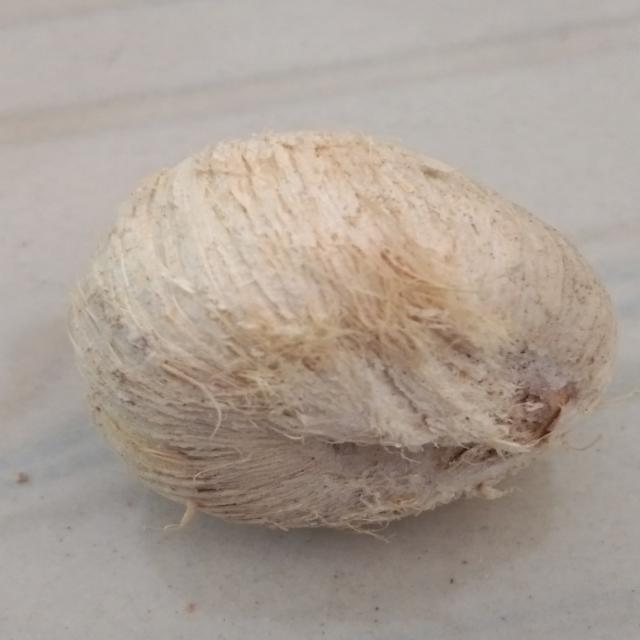phatora: (84, 136, 614, 528)
